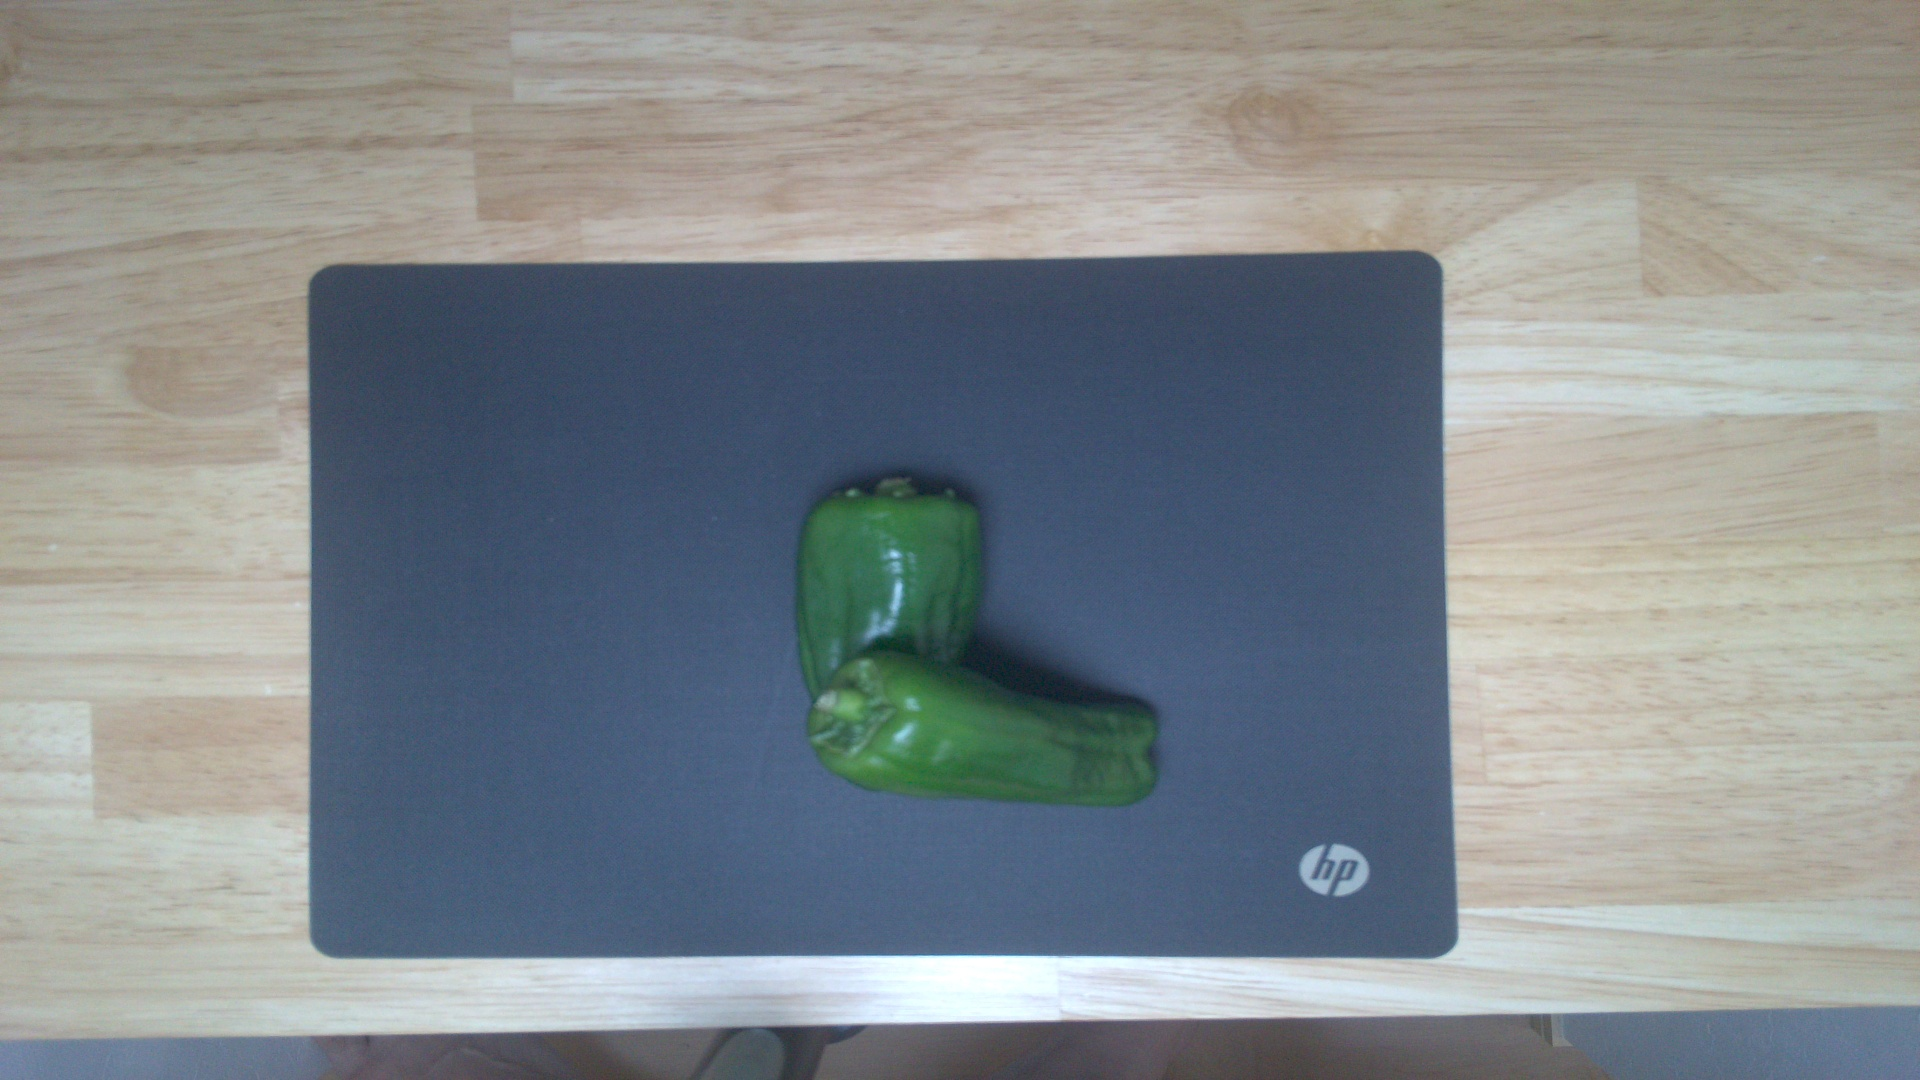Piman: (789, 640, 1162, 814), (793, 476, 997, 785)
